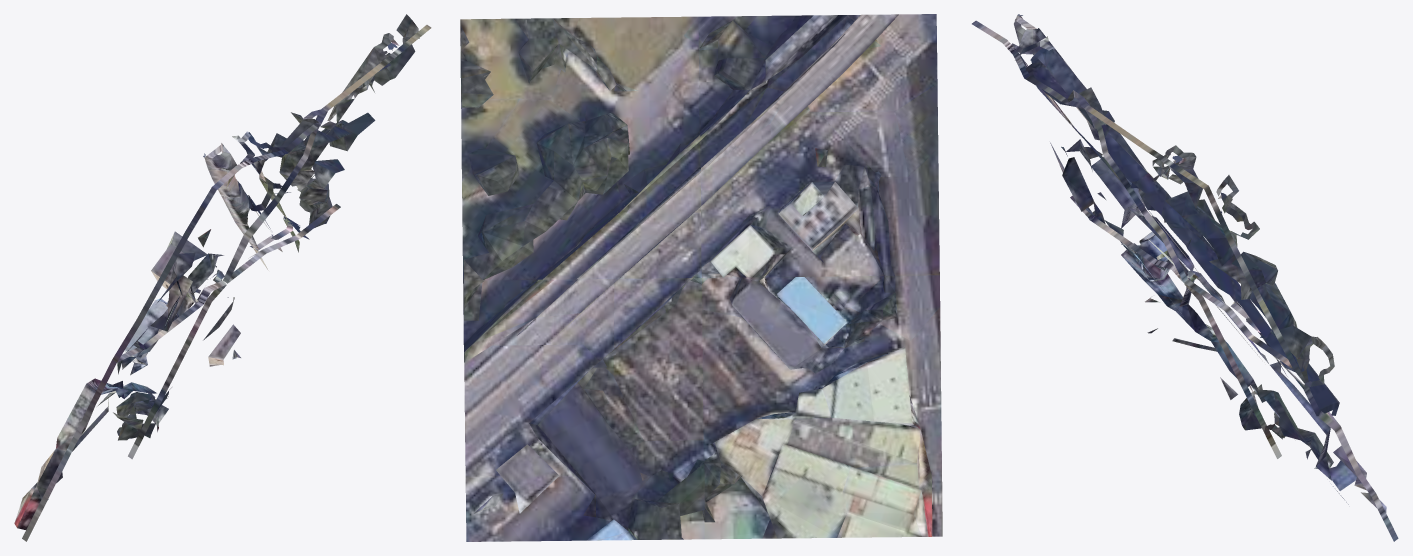
The picture shows the model from 3 angles, left to right: view 1: azimuth 30°, elevation 25°; view 2: azimuth 150°, elevation 25°; view 3: azimuth 270°, elevation 25°; orthographic projection. The views are drawn at different scales.
Size of the model in its own units: 155 by 142 by 131.
2 materials, 2 textured.
